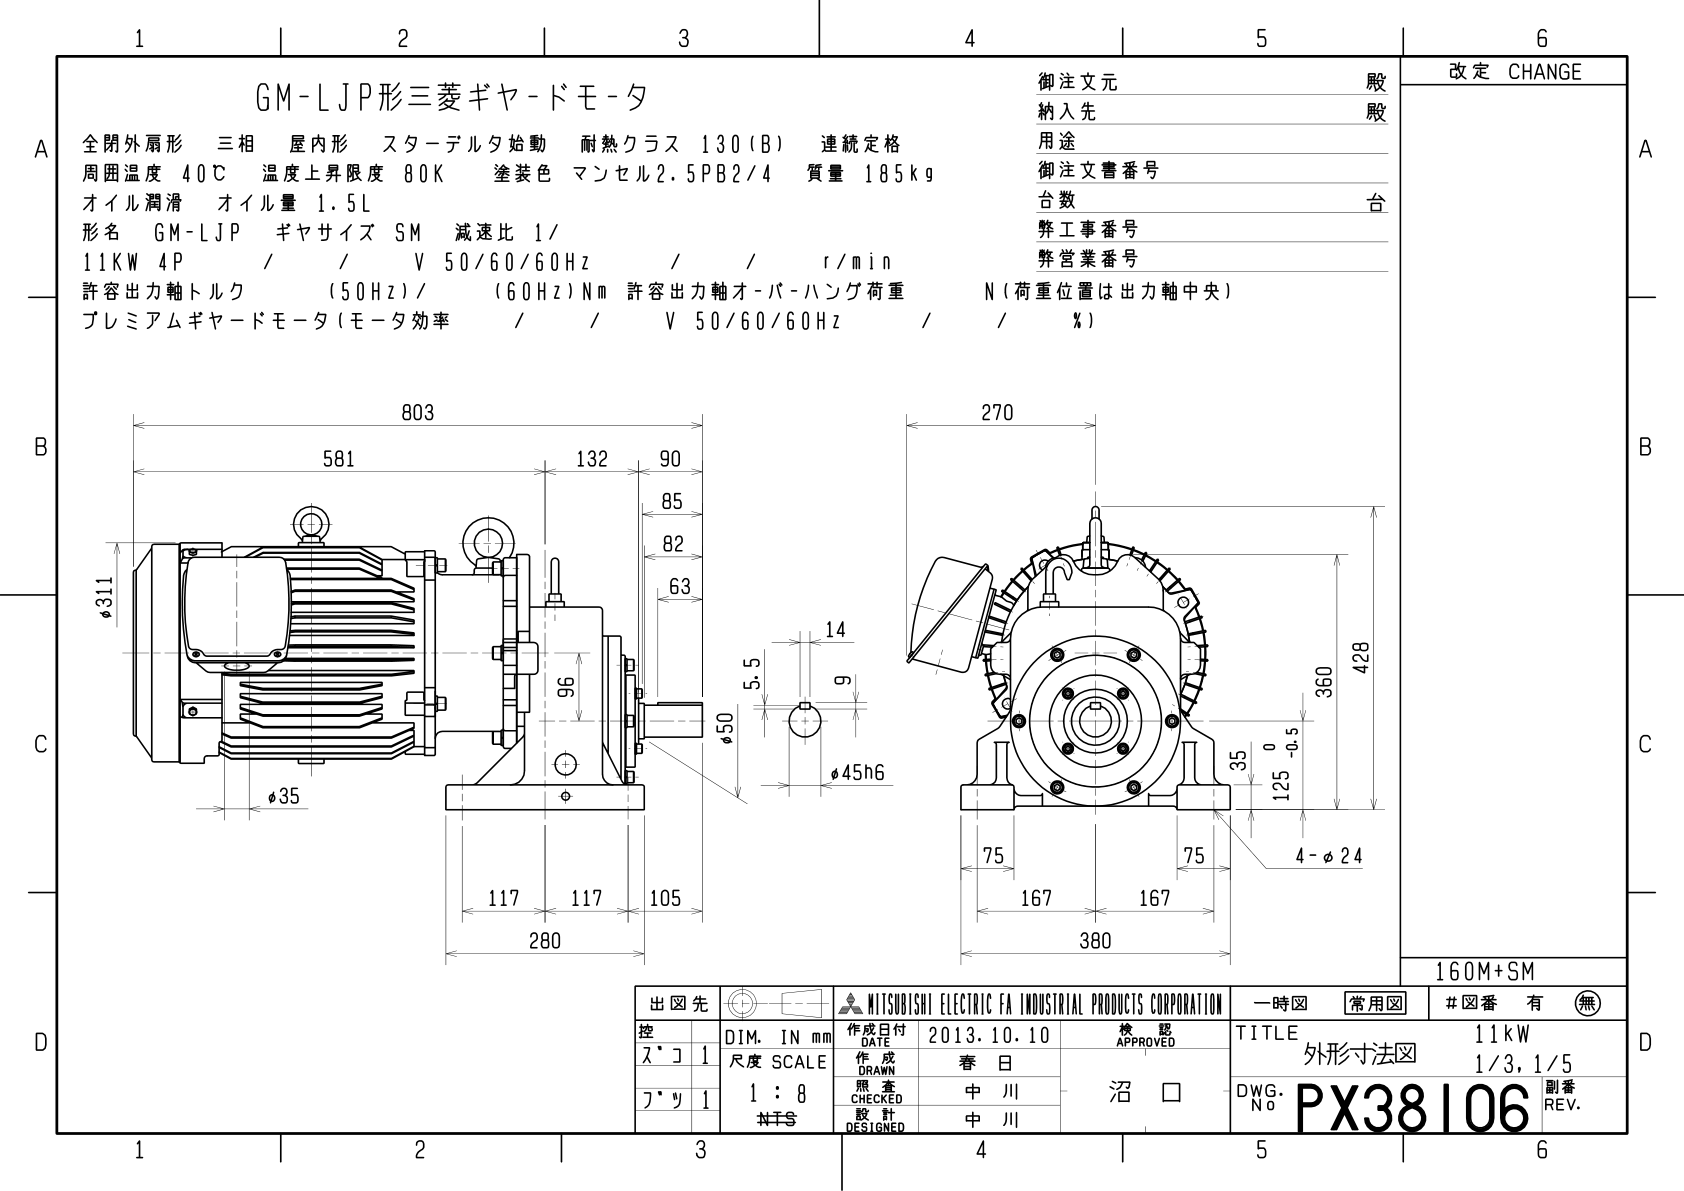GM_LJP_屋内_三相_脚: (77, 373, 1395, 969)
